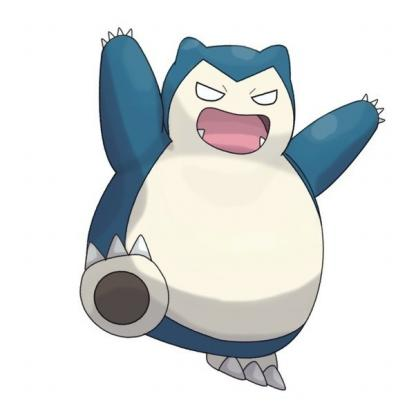Snorlax: (33, 7, 400, 400)
